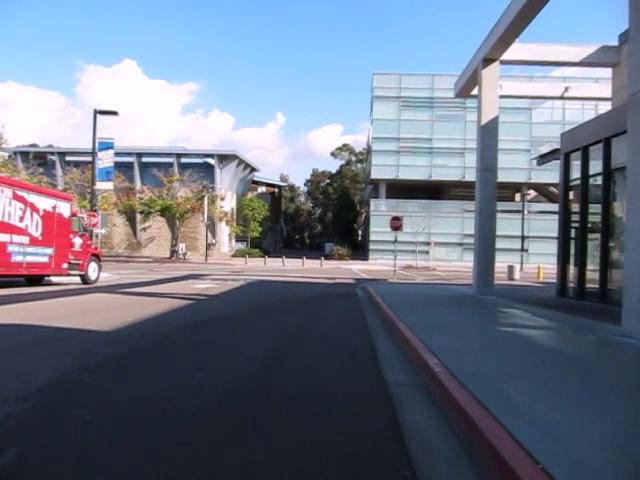stop: (389, 215, 403, 232)
